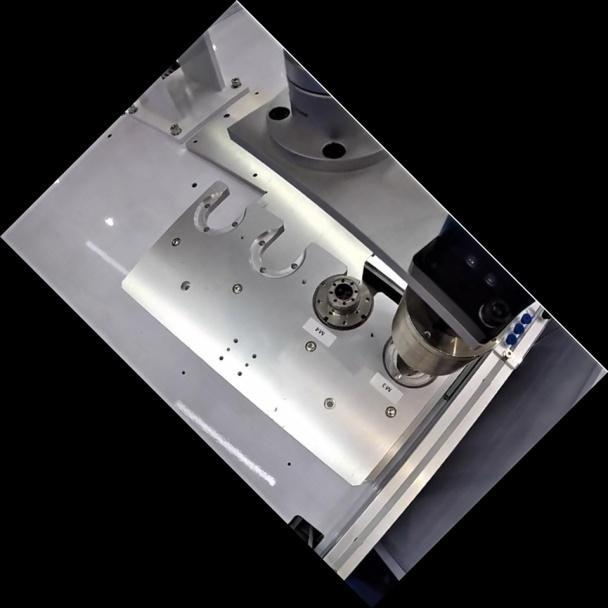hole: (317, 391, 338, 412), (176, 277, 192, 292)
